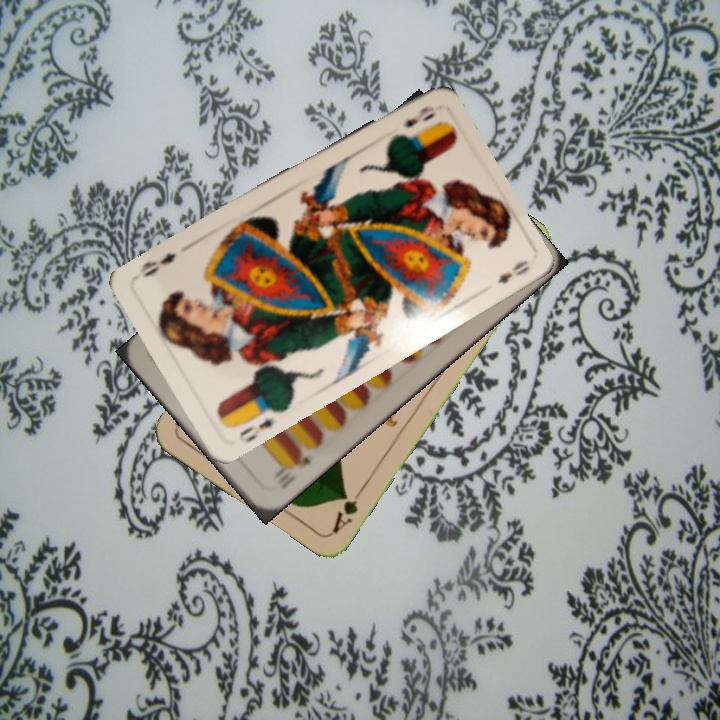E10: (276, 447, 313, 492)
EO: (235, 402, 279, 442), (399, 101, 437, 131)
GA: (328, 482, 367, 536)
